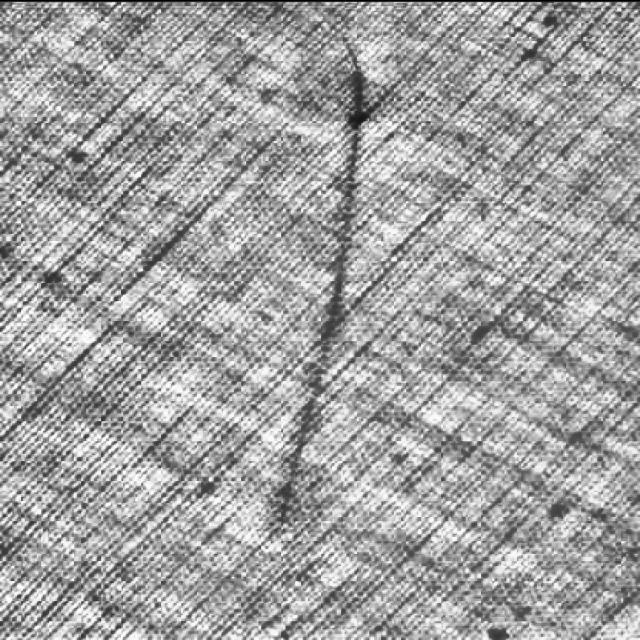thread_error: (257, 2, 370, 558)
